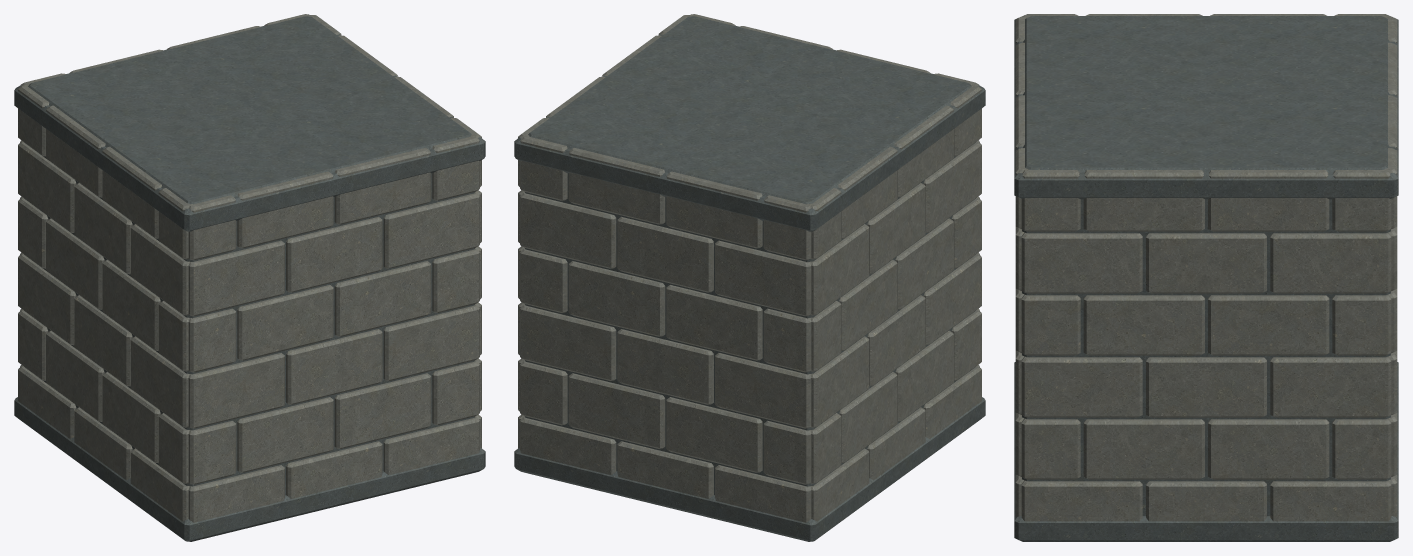
Rendered from source.glb.
3 renders of one model, left to right at view 1: azimuth 30°, elevation 25°; view 2: azimuth 150°, elevation 25°; view 3: azimuth 270°, elevation 25°, orthographic. The views are drawn at different scales.
Visible parts, largest first — view 1: body; view 2: body; view 3: body.
Boxes of the visible parts, left/top/right/bottom form: body: left=14, top=14, right=485, bottom=541; body: left=514, top=14, right=985, bottom=541; body: left=1014, top=14, right=1398, bottom=541.
Bounding box in the file's own units: 3.09 × 3.3 × 3.09.
Materials: 2 (2 with a texture image).
